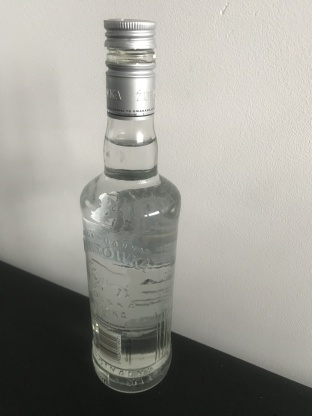nakretka: (102, 16, 156, 122)
